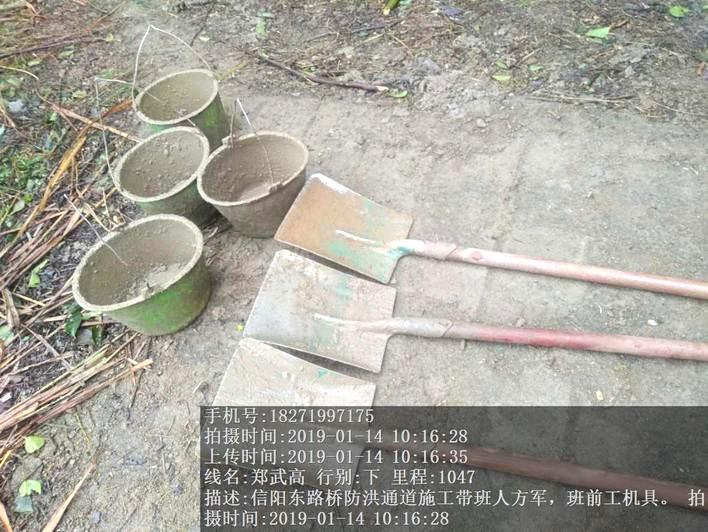SNT: (68, 207, 220, 334), (205, 127, 305, 243), (106, 129, 205, 209), (133, 69, 214, 126)
TQ: (272, 176, 703, 299), (240, 260, 708, 372)
